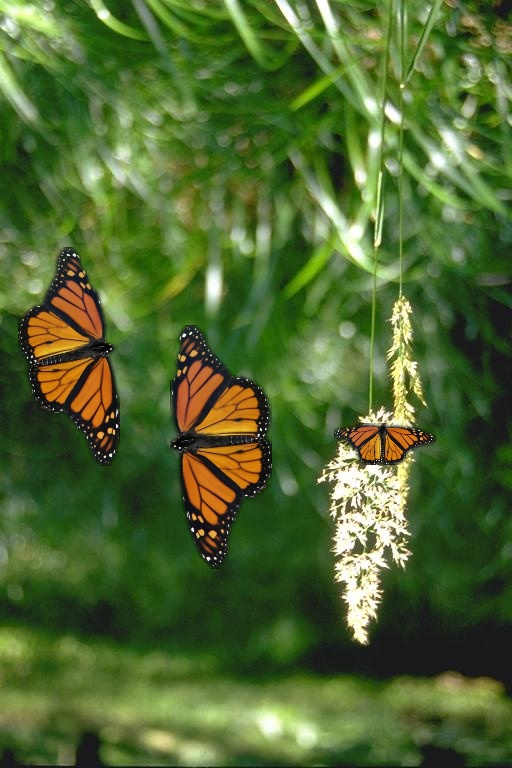danaus_plexippus: (170, 325, 272, 569), (18, 247, 120, 466), (334, 423, 436, 465)
